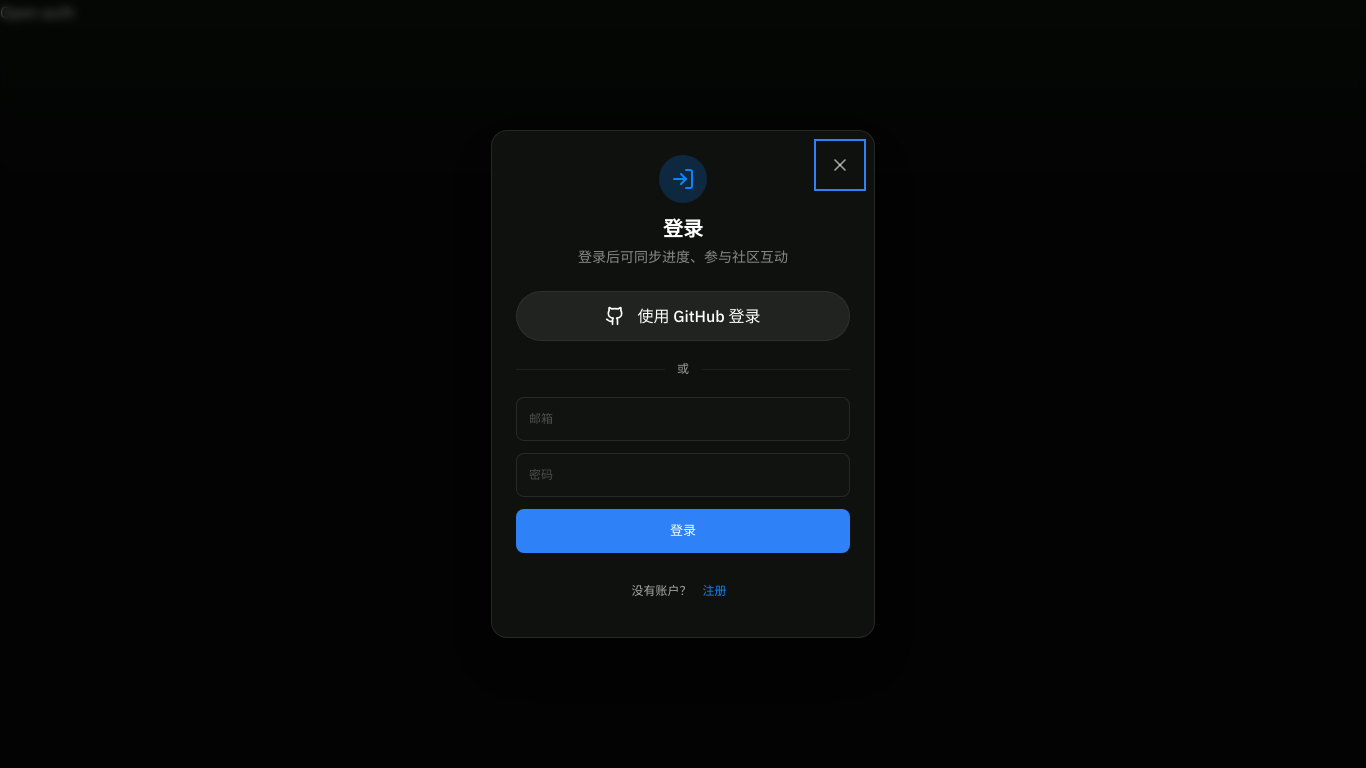
Scenario: AuthModal accessibility › recovers from rejected authentication requests
The image size is (1366, 768).
Type "user@example.com" into the field with test id "auth-modal-email" at (683, 419), box [516,397,850,441]
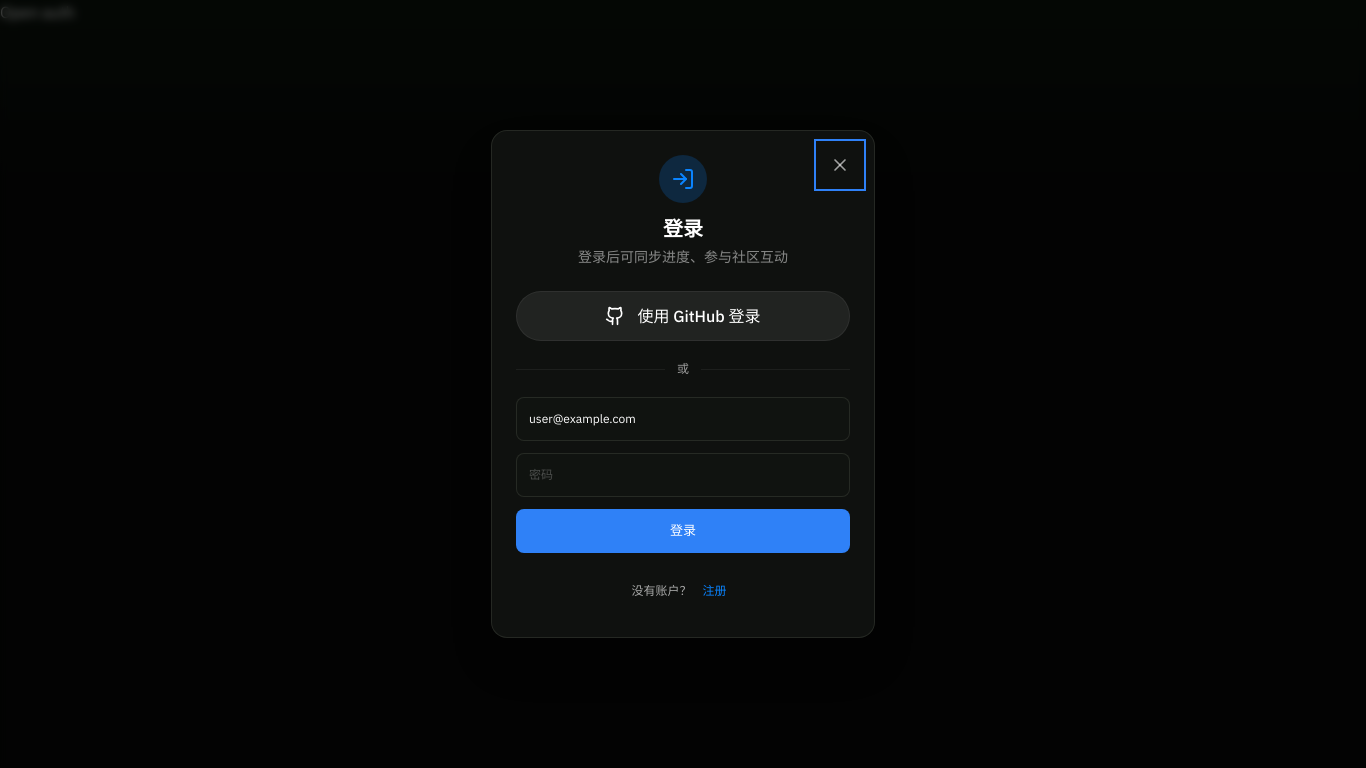
Type "password1" into the password field with test id "auth-modal-password" at (683, 475), box [516,453,850,497]
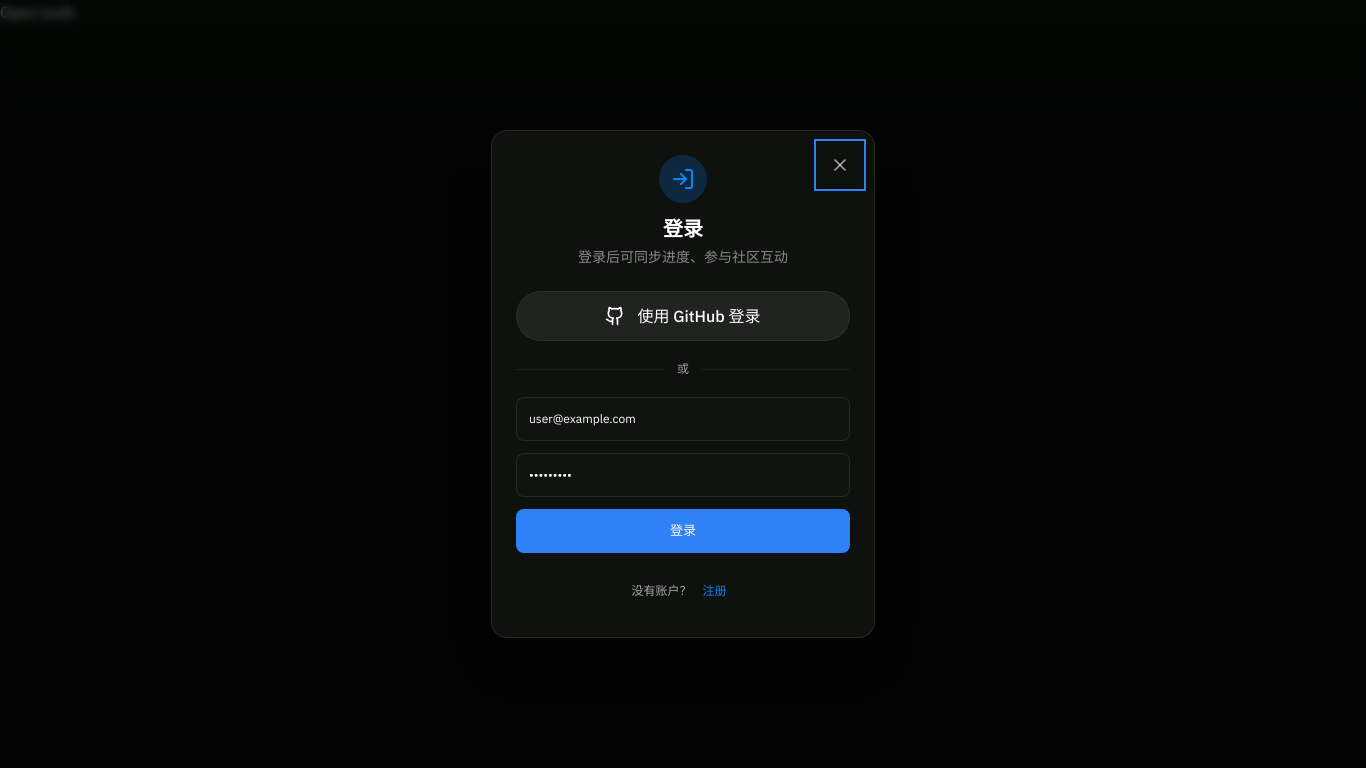
Submit the form, box [516,397,850,553]
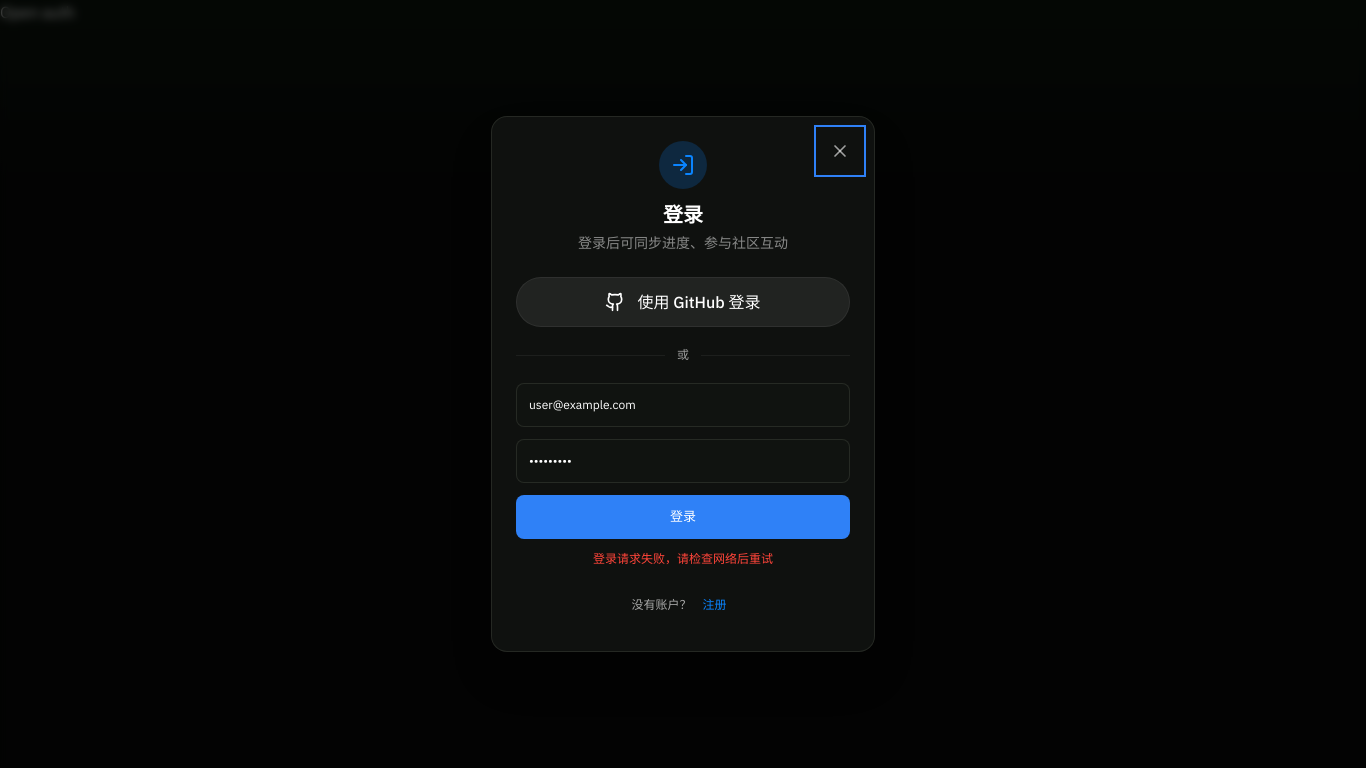
Expected: the message with test id "auth-modal-error" reads "登录请求失败，请检查网络后重试", [593,551,773,566]
